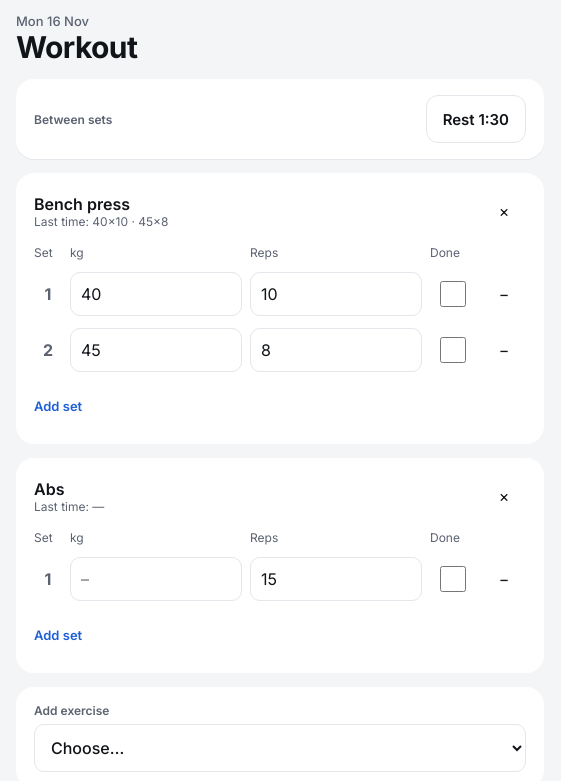
Test: removing an exercise with saved sets asks first and removes them
Click the 1st checkbox named "Set 1 done": click(452, 294) [440,281,466,307]
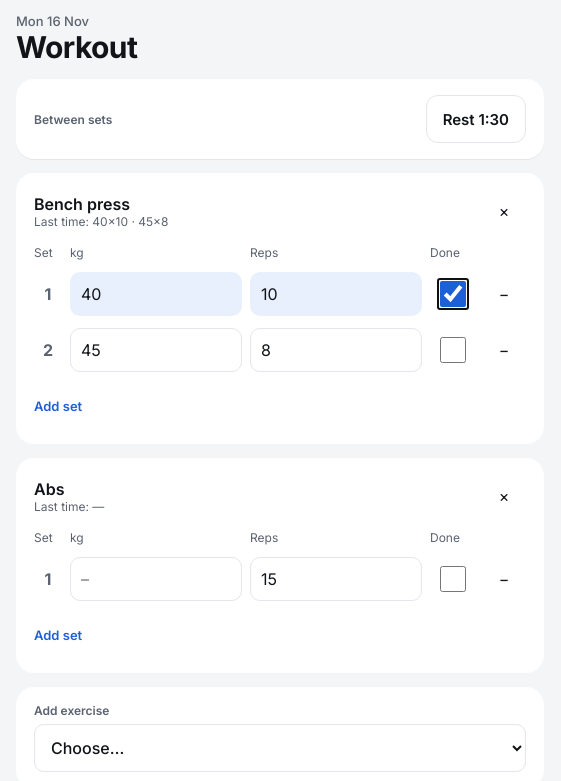
Click the button named "Remove Bench press": click(504, 211) [482,189,526,233]
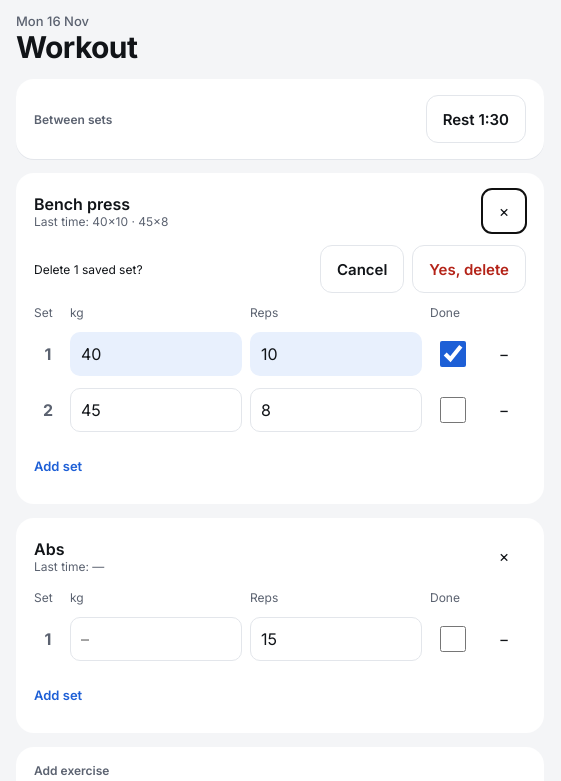
expect the text "Delete 1 saved set?" is shown: met, box [34,262,142,276]
Click the button "Yes, delete": click(469, 269) [412,245,526,293]
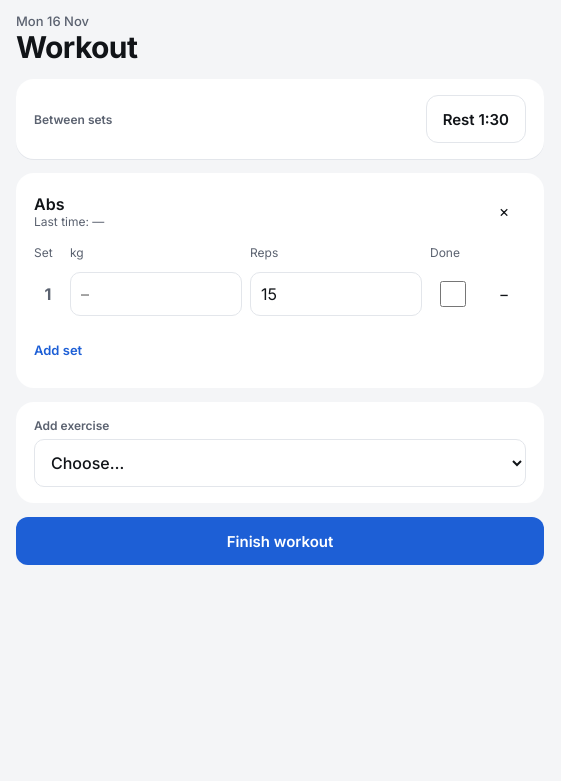
expect the heading "Bench press" is gone: met
